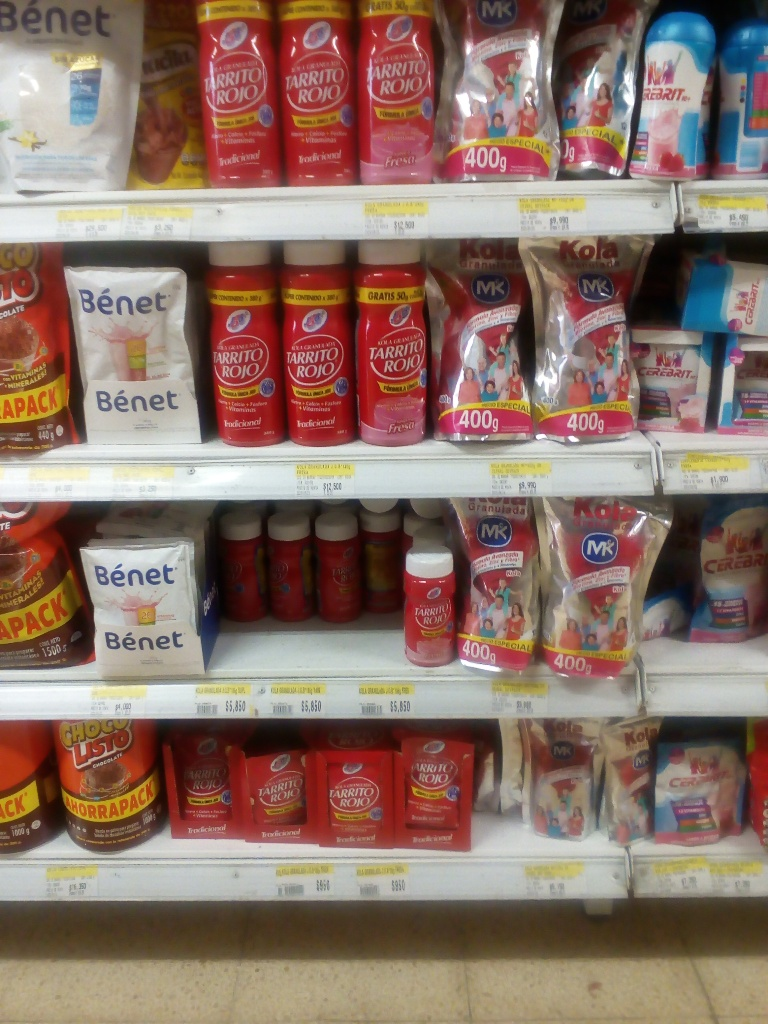COL0170103DYP44000: (0, 242, 79, 454)
COL0170103TRR00100: (46, 710, 172, 856)
